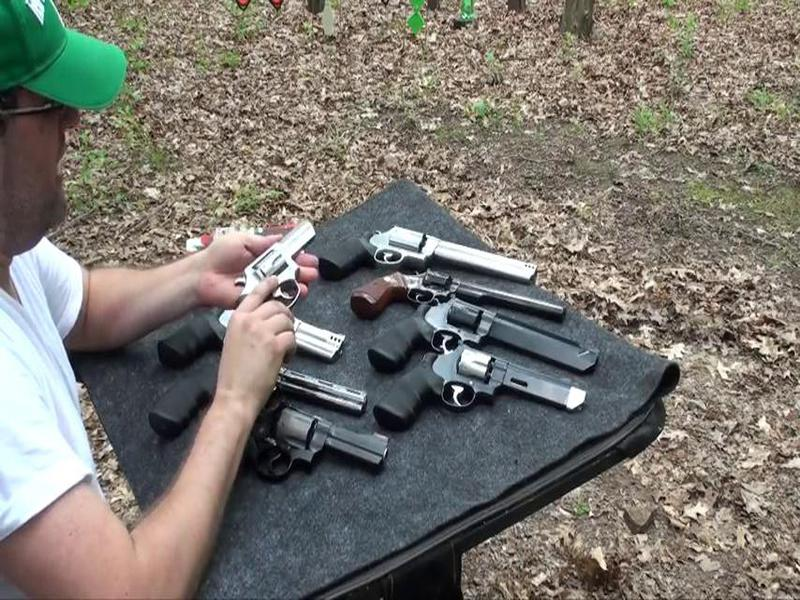Revolver: (375, 344, 610, 437)
